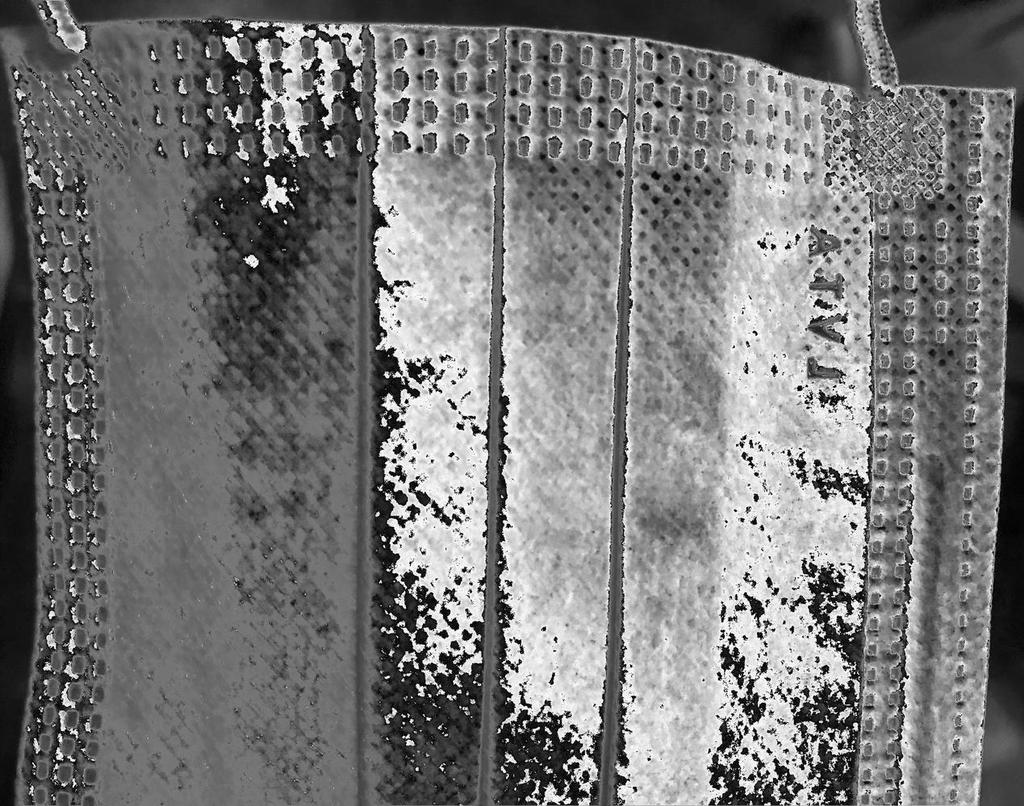High GSM: (373, 163, 855, 806)
